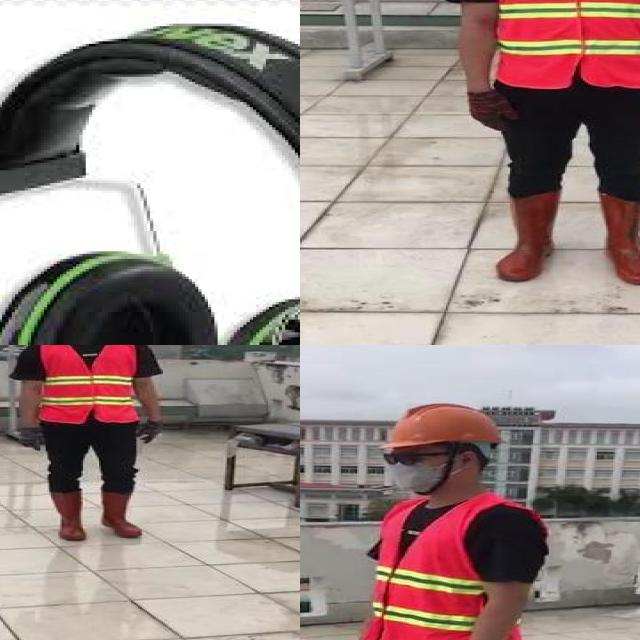Ear-protection: (0, 15, 300, 345)
boots: (492, 187, 562, 283), (602, 195, 640, 285), (99, 490, 142, 537), (51, 491, 90, 541)
face_mask: (380, 446, 446, 493)
glasses: (380, 446, 426, 469)
hand_glove: (464, 91, 519, 132), (15, 427, 46, 449), (135, 420, 161, 444)
head_helmet: (384, 398, 510, 457)
person: (449, 0, 640, 303), (330, 393, 557, 640), (3, 345, 172, 549)
vest: (366, 493, 526, 640), (488, 0, 640, 87), (40, 345, 141, 422)
